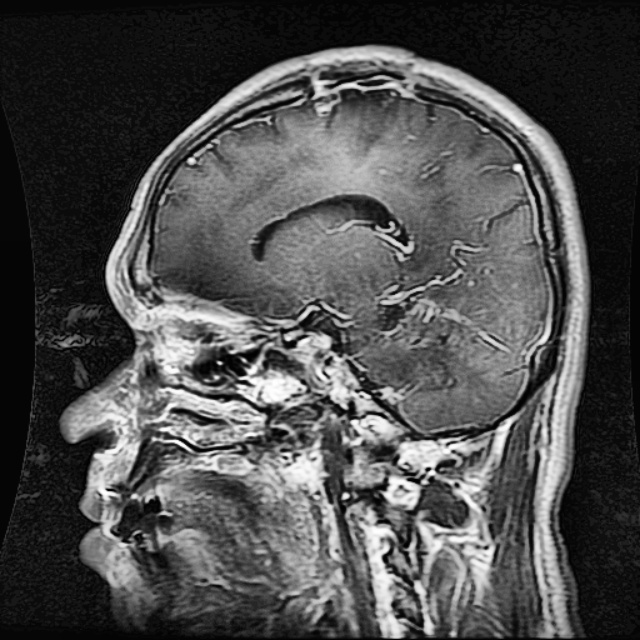Meningioma: (324, 102, 397, 149)
